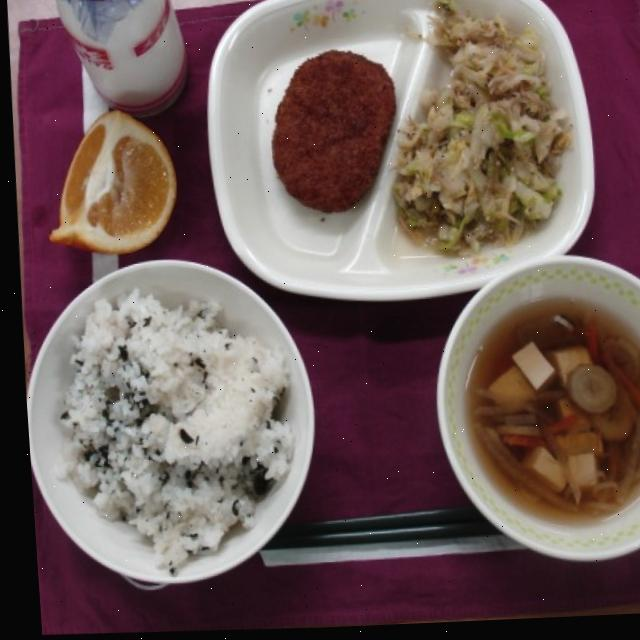炸货点心: (206, 0, 409, 277)
蔬菜料理: (375, 208, 640, 573)
